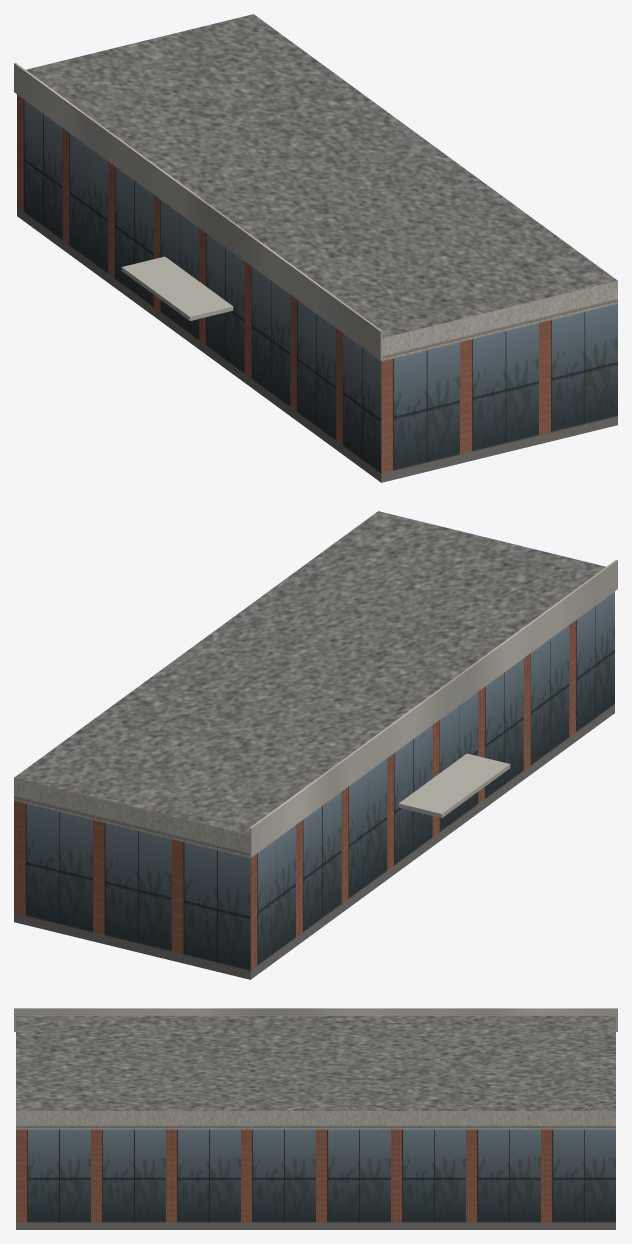
The model's file is SM_Fondale_EdificioVetrate.fbx.
The picture shows the model from 3 angles, top to bottom: view 1: azimuth 30°, elevation 25°; view 2: azimuth 150°, elevation 25°; view 3: azimuth 270°, elevation 25°; orthographic projection. The views are drawn at different scales.
Parts seen in each view (by area): view 1: SM_Fondale_EdificioVetrate; view 2: SM_Fondale_EdificioVetrate; view 3: SM_Fondale_EdificioVetrate.
Part boxes in pixels (<box>): SM_Fondale_EdificioVetrate: <box>14,14,617,482</box>; SM_Fondale_EdificioVetrate: <box>14,511,617,979</box>; SM_Fondale_EdificioVetrate: <box>14,1008,617,1229</box>.
Size of the model in its own units: 1420 by 3220 by 740.
1 material, 1 textured.
